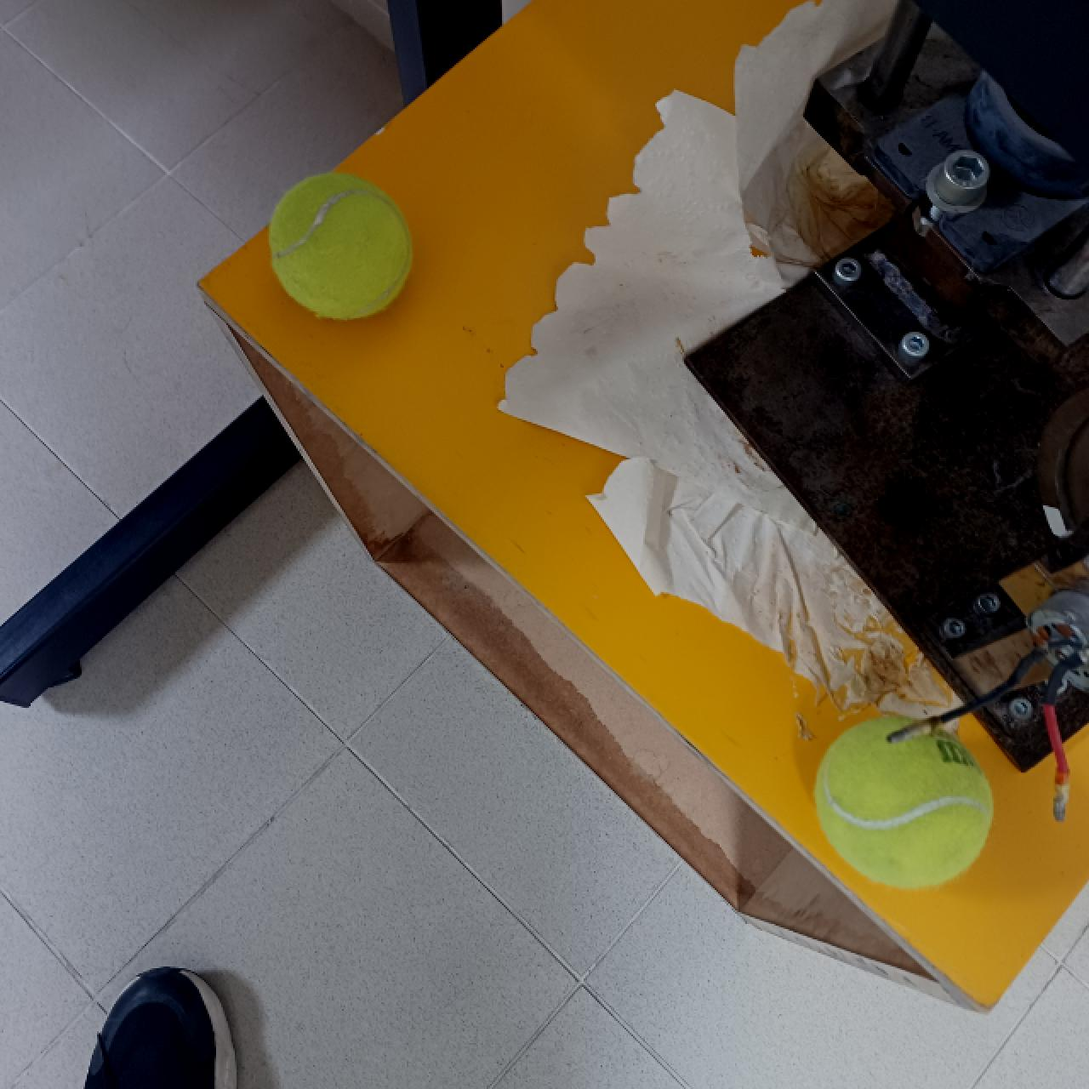tennis-ball: (809, 712, 996, 891), (264, 172, 413, 323)
